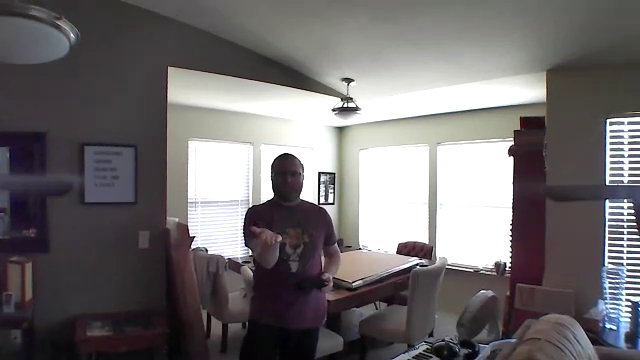land: (247, 224, 285, 247)
